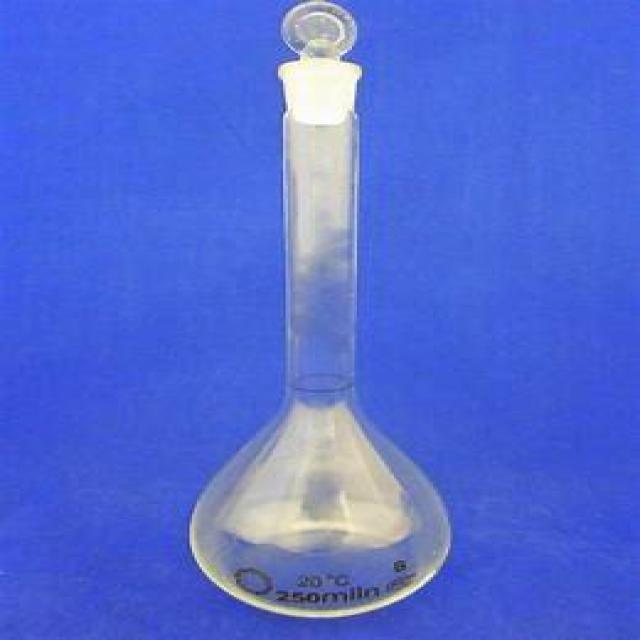Volumetric flask: (188, 6, 458, 621)
